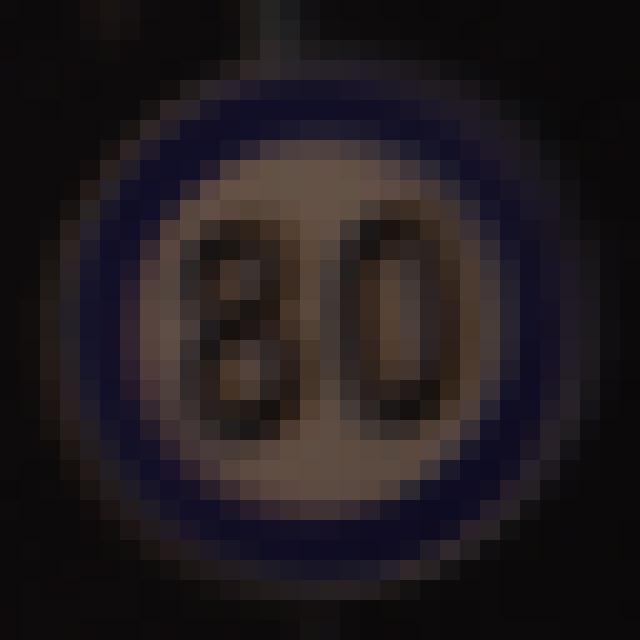SPEED-LIMIT-80: (69, 81, 578, 574)
